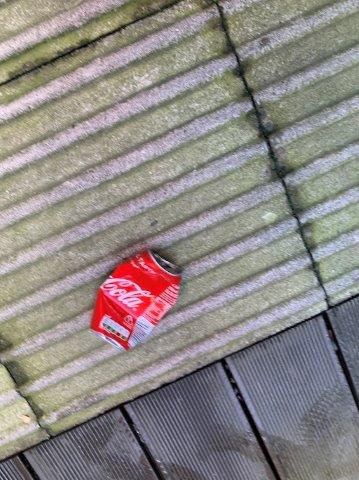kaleng: (91, 251, 183, 348)
